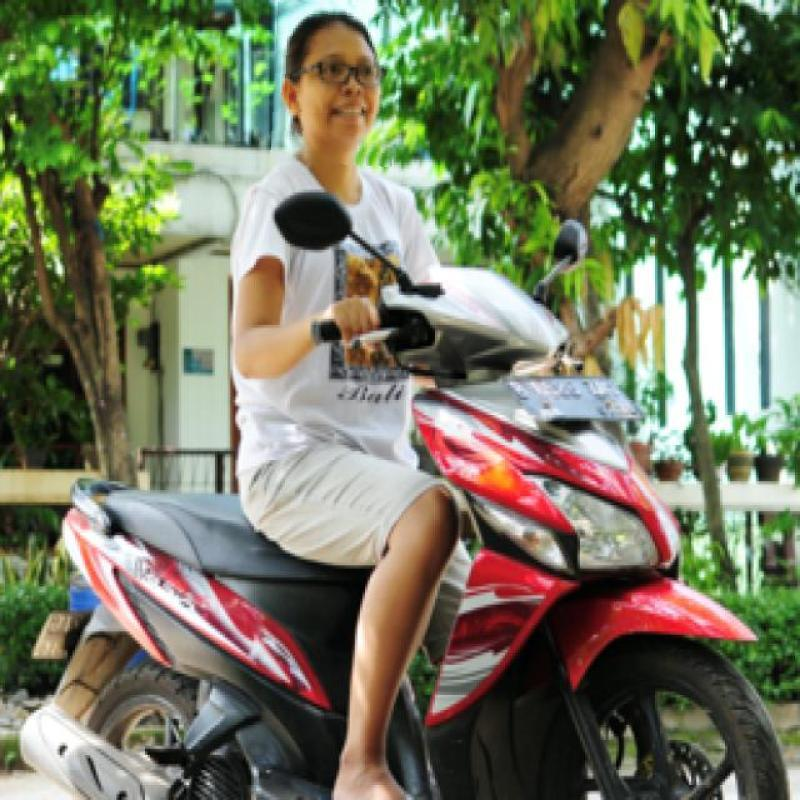nohelmet: (272, 3, 398, 165)
